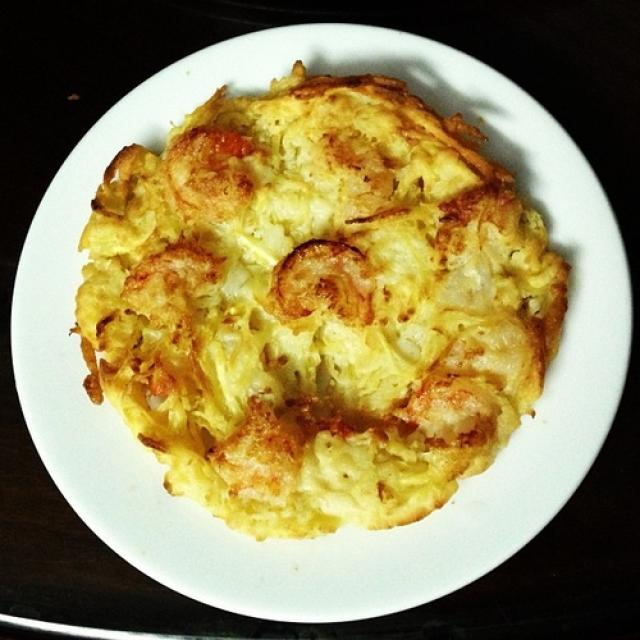炸货点心: (13, 20, 621, 594)
熟制海鲜: (13, 20, 621, 594)
